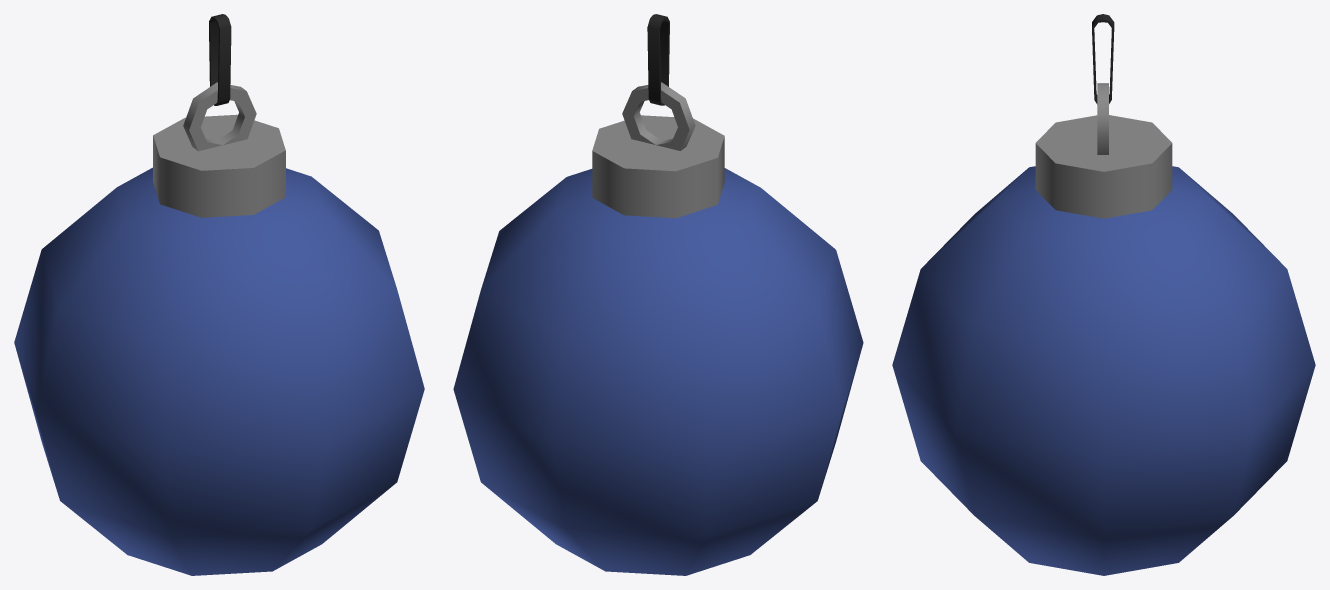
Rendered from Ornament_04.fbx.
3 renders of one model, left to right at view 1: azimuth 30°, elevation 25°; view 2: azimuth 150°, elevation 25°; view 3: azimuth 270°, elevation 25°, orthographic.
Parts seen in each view (by area): view 1: Ornament_04; view 2: Ornament_04; view 3: Ornament_04.
Boxes of the visible parts, x1,y1,x2,y2 form: Ornament_04: (14, 14, 424, 575); Ornament_04: (453, 14, 863, 575); Ornament_04: (892, 14, 1315, 575).
Bounding box in the file's own units: 0.1162 × 0.1636 × 0.1162.
